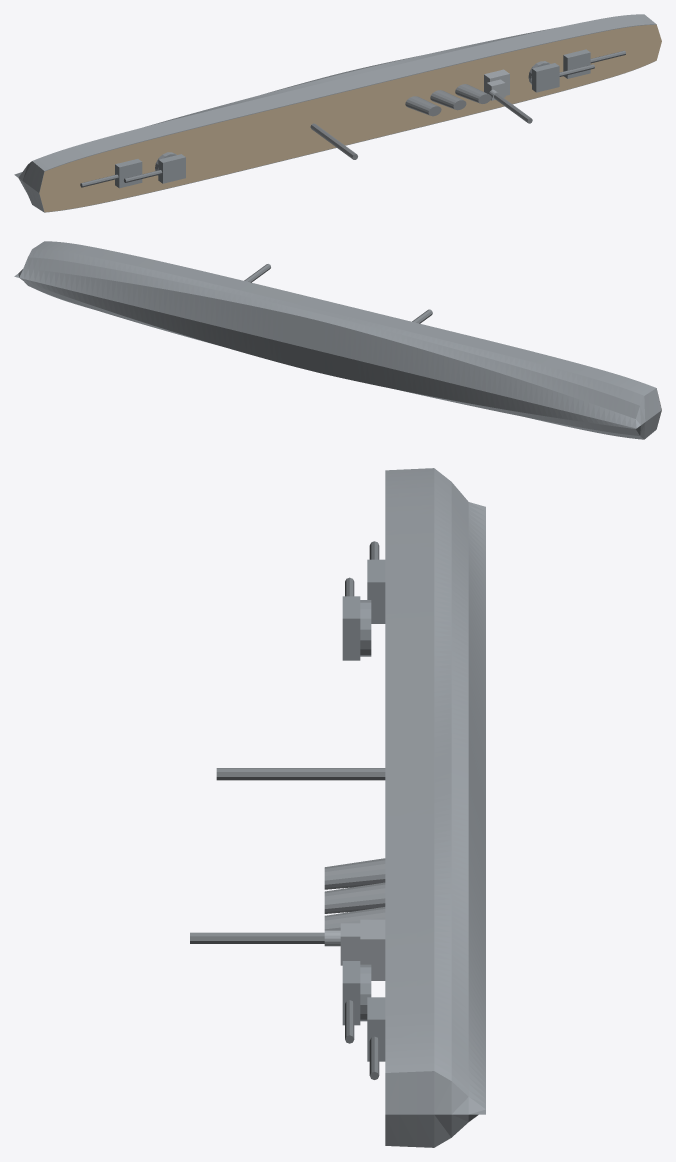
File: 球磨型.glb
3 renders of one model, top to bottom at view 1: azimuth 30°, elevation 25°; view 2: azimuth 150°, elevation 25°; view 3: azimuth 270°, elevation 25°, orthographic. The views are drawn at different scales.
Parts seen in each view (by area): view 1: 球磨型; view 2: 球磨型; view 3: 球磨型.
Part boxes in pixels (x1,y1,x2,y2): 球磨型: (14,14,661,212); 球磨型: (14,241,661,439); 球磨型: (190,468,485,1147).
Bounding box in the file's own units: 159 × 14.16 × 32.65.
